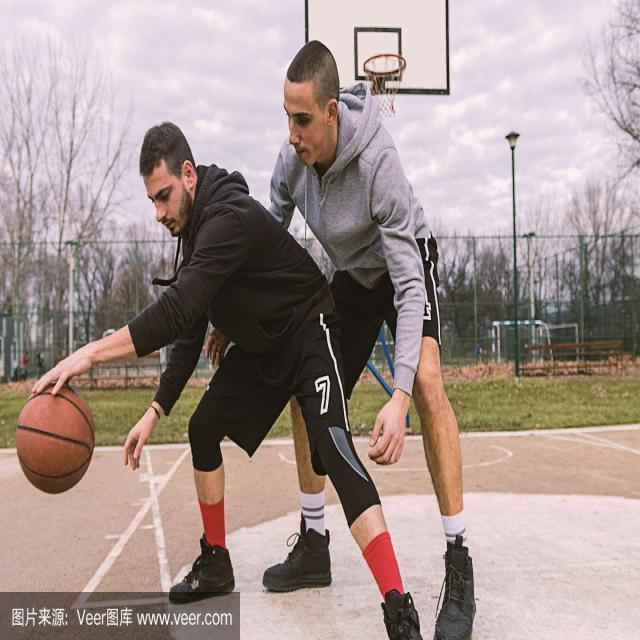rim: (16, 384, 96, 494)
